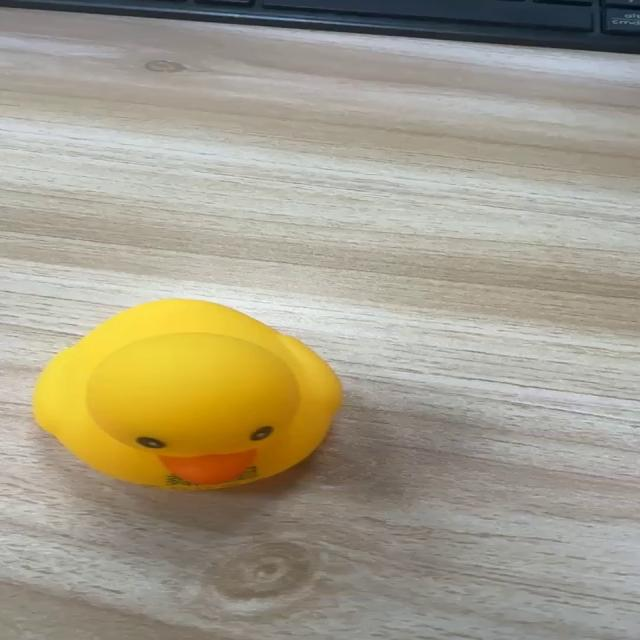yellow_duck: (31, 297, 344, 491)
